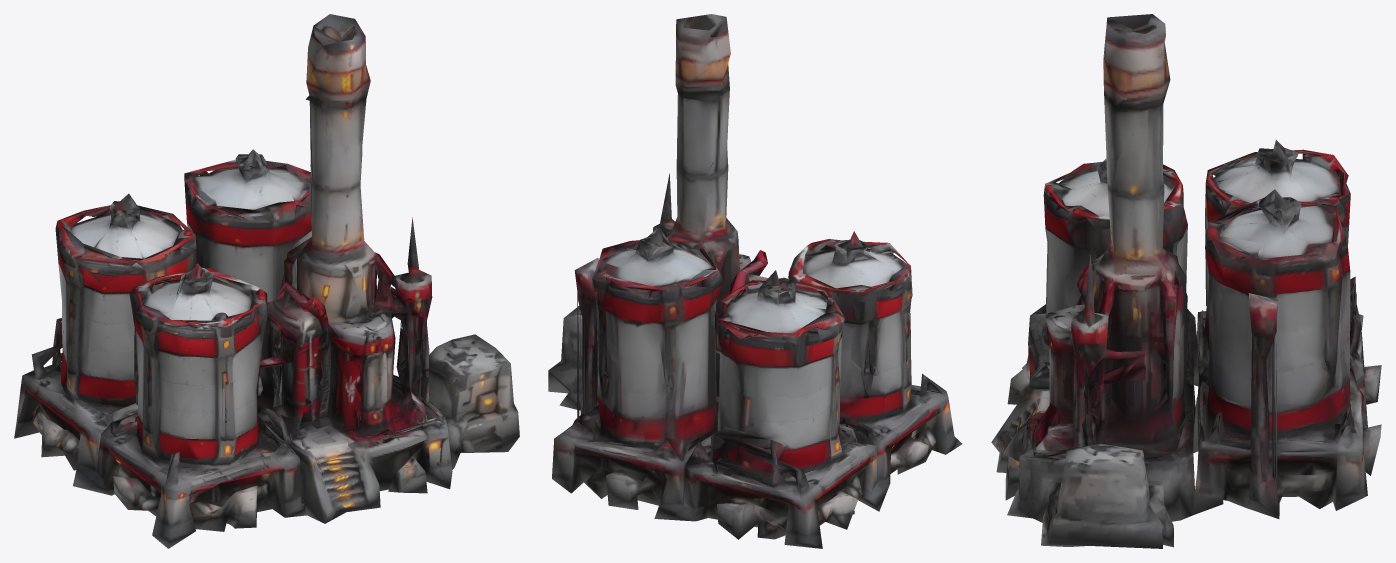
The model's file is industrial_refinery_3d_model.fbx.
The picture shows the model from 3 angles, left to right: view 1: azimuth 30°, elevation 25°; view 2: azimuth 150°, elevation 25°; view 3: azimuth 270°, elevation 25°; orthographic projection. The views are drawn at different scales.
Parts seen in each view (by area): view 1: tripo_node_00c82fcc; view 2: tripo_node_00c82fcc; view 3: tripo_node_00c82fcc.
Part boxes in pixels (x1=…): tripo_node_00c82fcc: x1=14, y1=14, x2=519, y2=548; tripo_node_00c82fcc: x1=548, y1=14, x2=962, y2=548; tripo_node_00c82fcc: x1=991, y1=14, x2=1381, y2=548.
Size of the model in its own units: 0.9094 by 1 by 0.7563.
